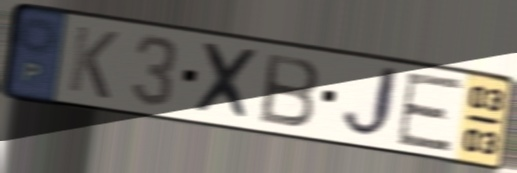3: (129, 32, 182, 111)
B: (257, 50, 323, 130)
E: (393, 70, 467, 154)
J: (337, 63, 403, 144)
K: (65, 22, 122, 103)
X: (190, 39, 261, 125)
